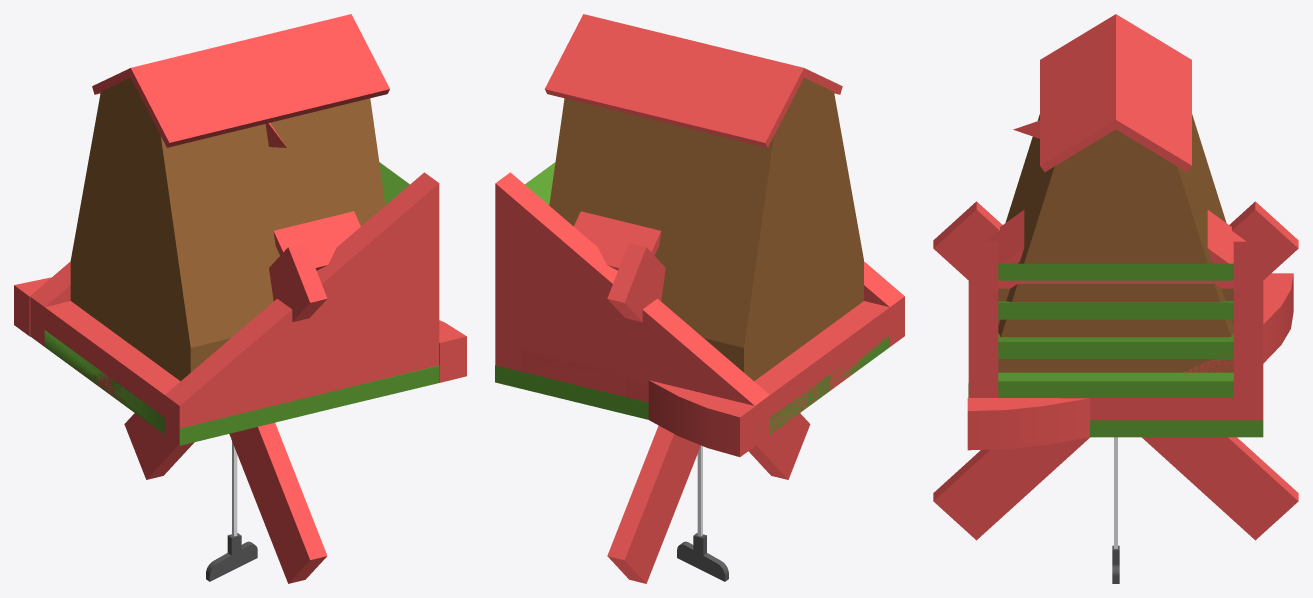
Rendered from SC_Mini_Golf.fbx.
3 views of the same model, side by side, from view 1: azimuth 30°, elevation 25°; view 2: azimuth 150°, elevation 25°; view 3: azimuth 270°, elevation 25° (orthographic).
Visible parts, largest first — view 1: SM_Windmill_Body, SM_Ramp_4, SM_Windmill_Blade, SM_Ramp_3, SM_Ramp_2, SM_Hill_Round, SM_Wall_Right, SM_Inner_Round, SM_Split_T, SM_Castle, SM_Wall_Left, SM_Ramp_1 (+9 smaller); view 2: SM_Windmill_Body, SM_Ramp_4, SM_Windmill_Blade, SM_Inner_Round_Extended, SM_Ramp_3, SM_Wall_Right, SM_Ramp_2, SM_Wall_Left, SM_Ramp_1, SM_Hill_Round, SM_Castle, SM_Split_T (+6 smaller); view 3: SM_Windmill_Body, SM_Windmill_Blade, SM_Inner_Round_Extended, SM_Ramp_1, SM_Ramp_2, SM_Ramp_4, SM_Ramp_3, SM_Split_T, SM_Castle, SM_Inner_Round, SM_Tunnel_Narrow, SM_Club_Red (+2 smaller).
Part boxes in pixels (x1,y1,x2,y2): SM_Windmill_Body: [70, 14, 389, 381]; SM_Ramp_4: [30, 162, 439, 421]; SM_Windmill_Blade: [124, 243, 327, 583]; SM_Ramp_3: [49, 223, 439, 417]; SM_Ramp_2: [182, 263, 439, 416]; SM_Hill_Round: [201, 348, 413, 402]; SM_Wall_Right: [72, 346, 410, 428]; SM_Inner_Round: [179, 365, 439, 445]; SM_Split_T: [30, 297, 438, 445]; SM_Castle: [273, 211, 360, 270]; SM_Wall_Left: [30, 302, 153, 421]; SM_Ramp_1: [57, 302, 439, 416]; SM_Windmill_Body: [545, 14, 863, 377]; SM_Ramp_4: [495, 162, 904, 405]; SM_Windmill_Blade: [607, 243, 810, 583]; SM_Inner_Round_Extended: [495, 365, 755, 456]; SM_Ramp_3: [495, 223, 885, 404]; SM_Wall_Right: [495, 300, 903, 430]; SM_Ramp_2: [495, 263, 883, 403]; SM_Wall_Left: [756, 351, 843, 444]; SM_Ramp_1: [495, 297, 885, 401]; SM_Hill_Round: [497, 345, 696, 402]; SM_Castle: [574, 211, 661, 270]; SM_Split_T: [495, 296, 904, 444]; SM_Windmill_Body: [998, 14, 1233, 372]; SM_Windmill_Blade: [933, 201, 1298, 540]; SM_Inner_Round_Extended: [967, 273, 1293, 450]; SM_Ramp_1: [968, 359, 1263, 397]; SM_Ramp_2: [968, 319, 1263, 358]; SM_Ramp_4: [968, 241, 1263, 288]; SM_Ramp_3: [968, 280, 1263, 319]; SM_Split_T: [1061, 398, 1263, 420]; SM_Castle: [986, 210, 1245, 325]; SM_Inner_Round: [968, 383, 1263, 437]; SM_Tunnel_Narrow: [998, 359, 1233, 372]; SM_Club_Red: [1112, 437, 1119, 583].
Size of the model in its own units: 2.21 by 3.91 by 2.48.
